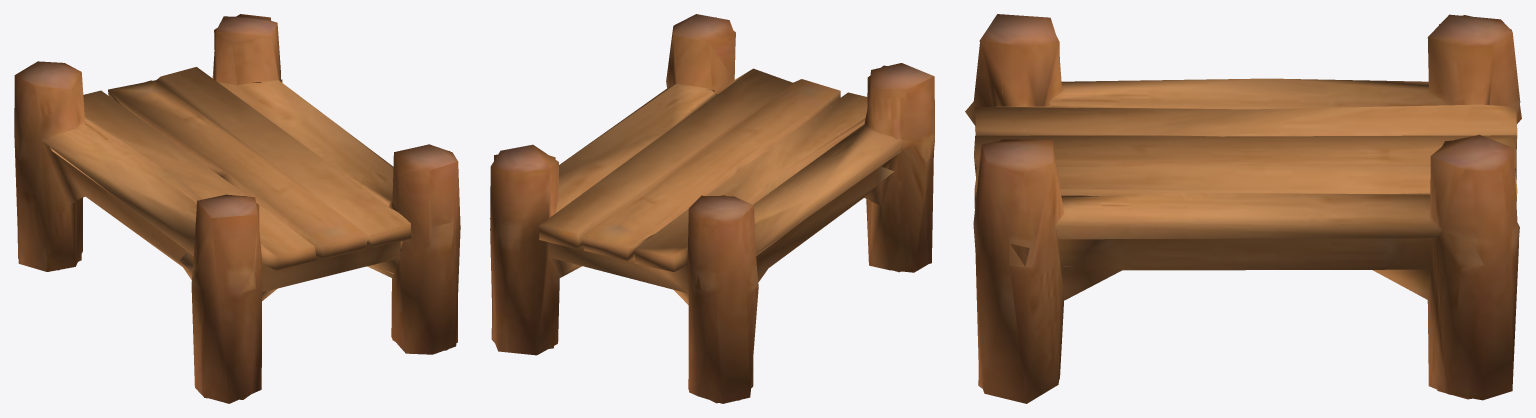
The model's file is sz-jetty.glb.
The picture shows the model from 3 angles, left to right: view 1: azimuth 30°, elevation 25°; view 2: azimuth 150°, elevation 25°; view 3: azimuth 270°, elevation 25°; orthographic projection. The views are drawn at different scales.
Parts seen in each view (by area): view 1: geometry_0; view 2: geometry_0; view 3: geometry_0.
Boxes of the visible parts, left/top/right/bottom form: geometry_0: left=14, top=14, right=460, bottom=403; geometry_0: left=490, top=14, right=934, bottom=403; geometry_0: left=965, top=14, right=1521, bottom=403.
Bounding box in the file's own units: 0.6971 × 0.4665 × 1.
Materials: 1 (1 with a texture image).
